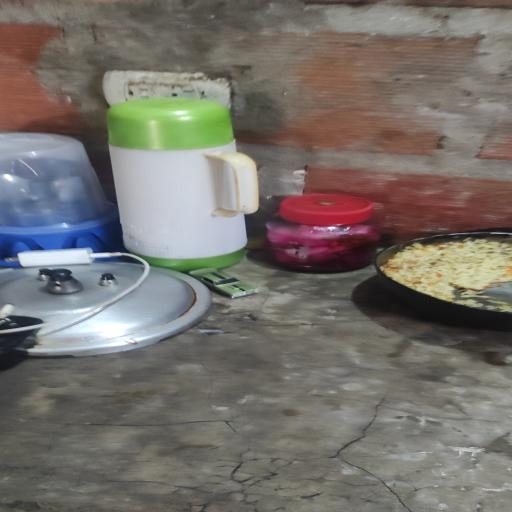Carrito: (189, 268, 258, 298)
